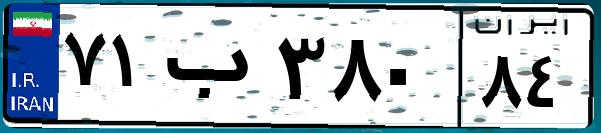0: (385, 28, 445, 110)
1: (110, 28, 158, 98)
3: (270, 28, 330, 110)
4: (525, 38, 570, 115)
7: (57, 26, 110, 100)
8: (330, 28, 385, 110), (475, 38, 525, 113)
ب: (158, 20, 270, 120)
